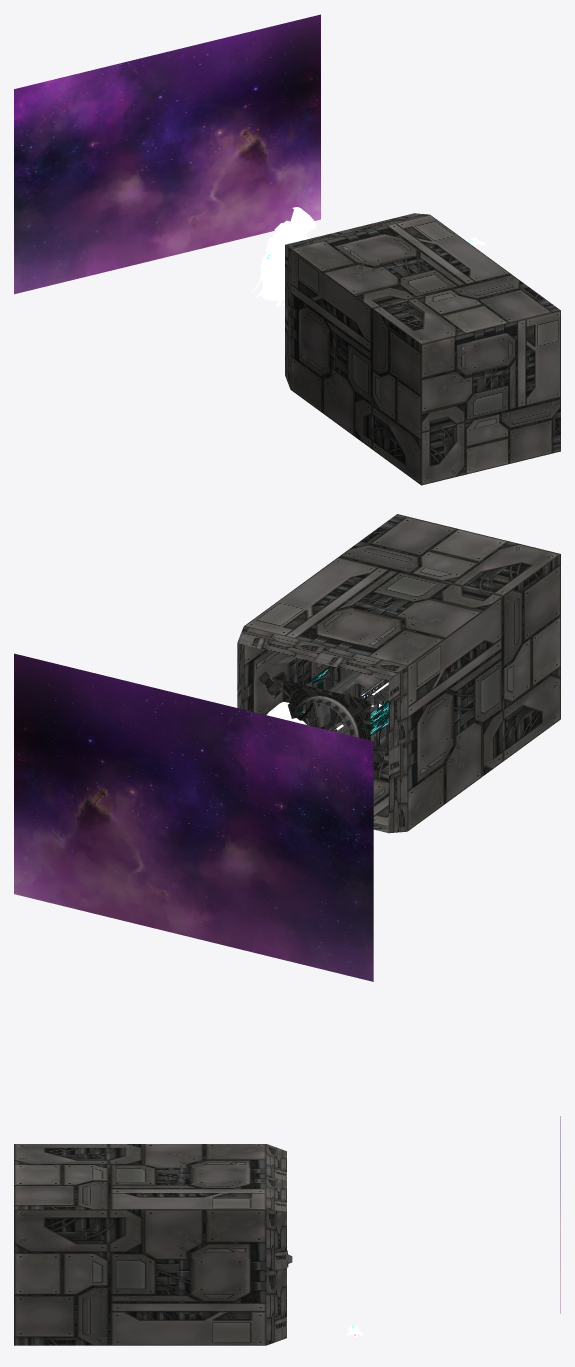
File: MarvelcocKnowhere.glb
3 views of the same model, one above another, from view 1: azimuth 30°, elevation 25°; view 2: azimuth 150°, elevation 25°; view 3: azimuth 270°, elevation 25° (orthographic). The views are drawn at different scales.
Parts seen in each view (by area): view 1: knowhere_skytile_13_0, knowherewall_a_13_0, knowherehead_flat; view 2: knowhere_skytile_13_0, knowherewall_a_13_0, knowherewall_b_13_0, knowheretrack_13_0, knowhereplatformtile_13_0, knowherepaneltrim_13_0; view 3: knowherewall_a_13_0.
Part boxes in pixels (box(x1,y1,x2,y2)): knowhere_skytile_13_0: box(14, 14, 320, 294); knowherewall_a_13_0: box(285, 213, 560, 485); knowherehead_flat: box(251, 207, 316, 307); knowhere_skytile_13_0: box(14, 653, 373, 981); knowherewall_a_13_0: box(237, 514, 560, 833); knowherewall_b_13_0: box(282, 679, 388, 753); knowheretrack_13_0: box(299, 667, 388, 760); knowhereplatformtile_13_0: box(293, 693, 379, 737); knowherepaneltrim_13_0: box(303, 667, 388, 758); knowherewall_a_13_0: box(14, 1144, 286, 1345).
Bounding box in the file's own units: 513 × 298 × 698.
Materials: 19 (19 with a texture image).
